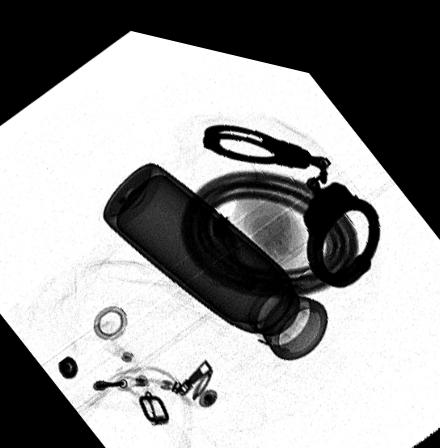HandCuffs: (203, 113, 381, 271)
